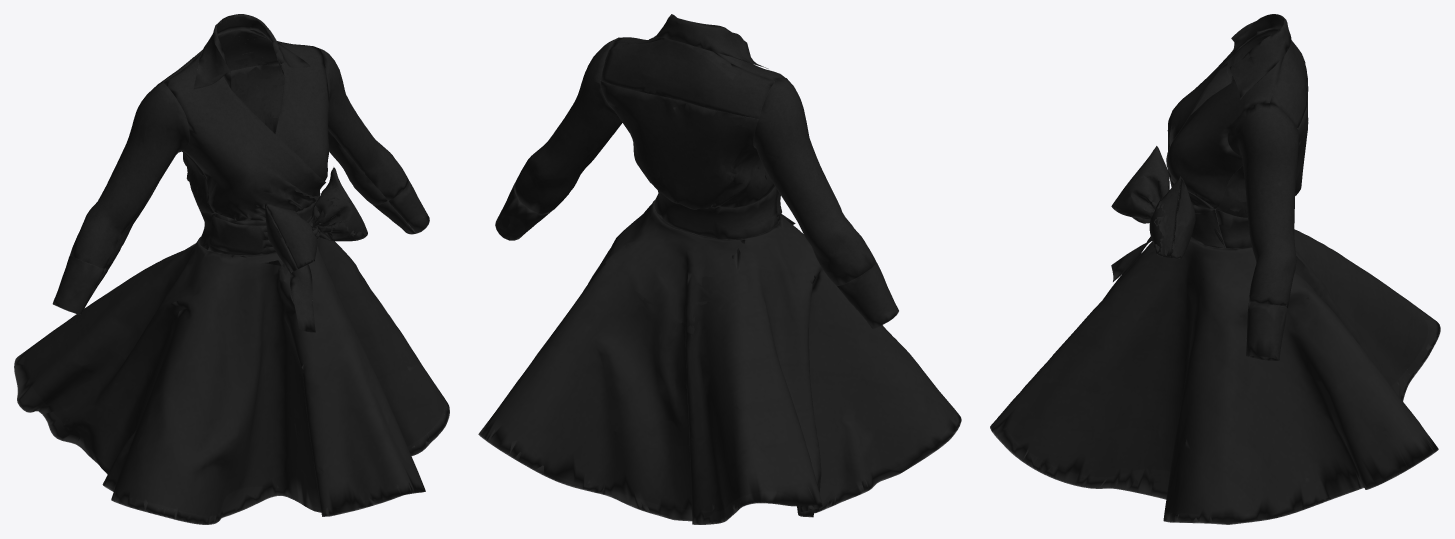
File: black_dress.glb
3 views of the same model, side by side, from view 1: azimuth 30°, elevation 25°; view 2: azimuth 150°, elevation 25°; view 3: azimuth 270°, elevation 25° (orthographic). The views are drawn at different scales.
Visible parts, largest first — view 1: black_dress; view 2: black_dress; view 3: black_dress.
Part boxes in pixels (left/top/right/bottom): black_dress: left=14, top=14, right=449, bottom=524; black_dress: left=478, top=14, right=961, bottom=524; black_dress: left=990, top=14, right=1440, bottom=524.
Bounding box in the file's own units: 0.9542 × 1.09 × 0.9781.
1 material, 1 textured.
